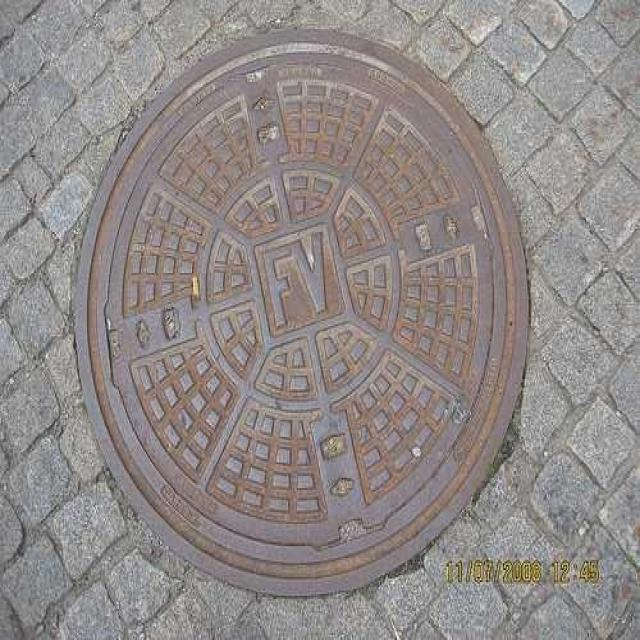manhole: (74, 31, 531, 599)
